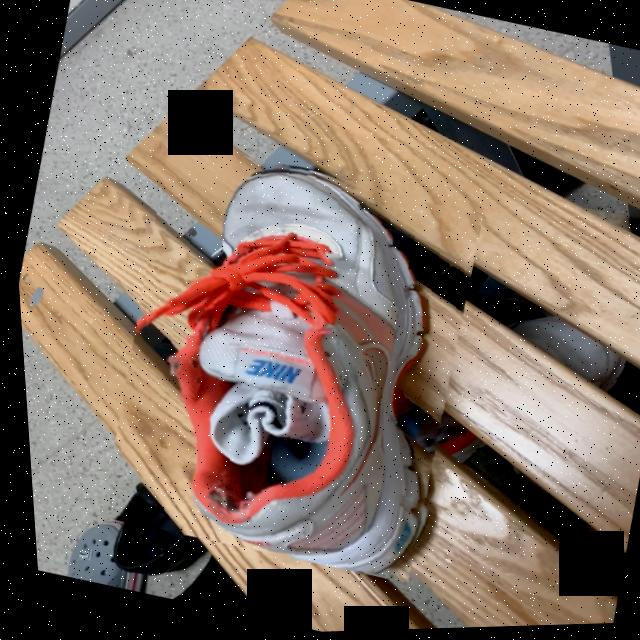shoe: (130, 168, 422, 576)
